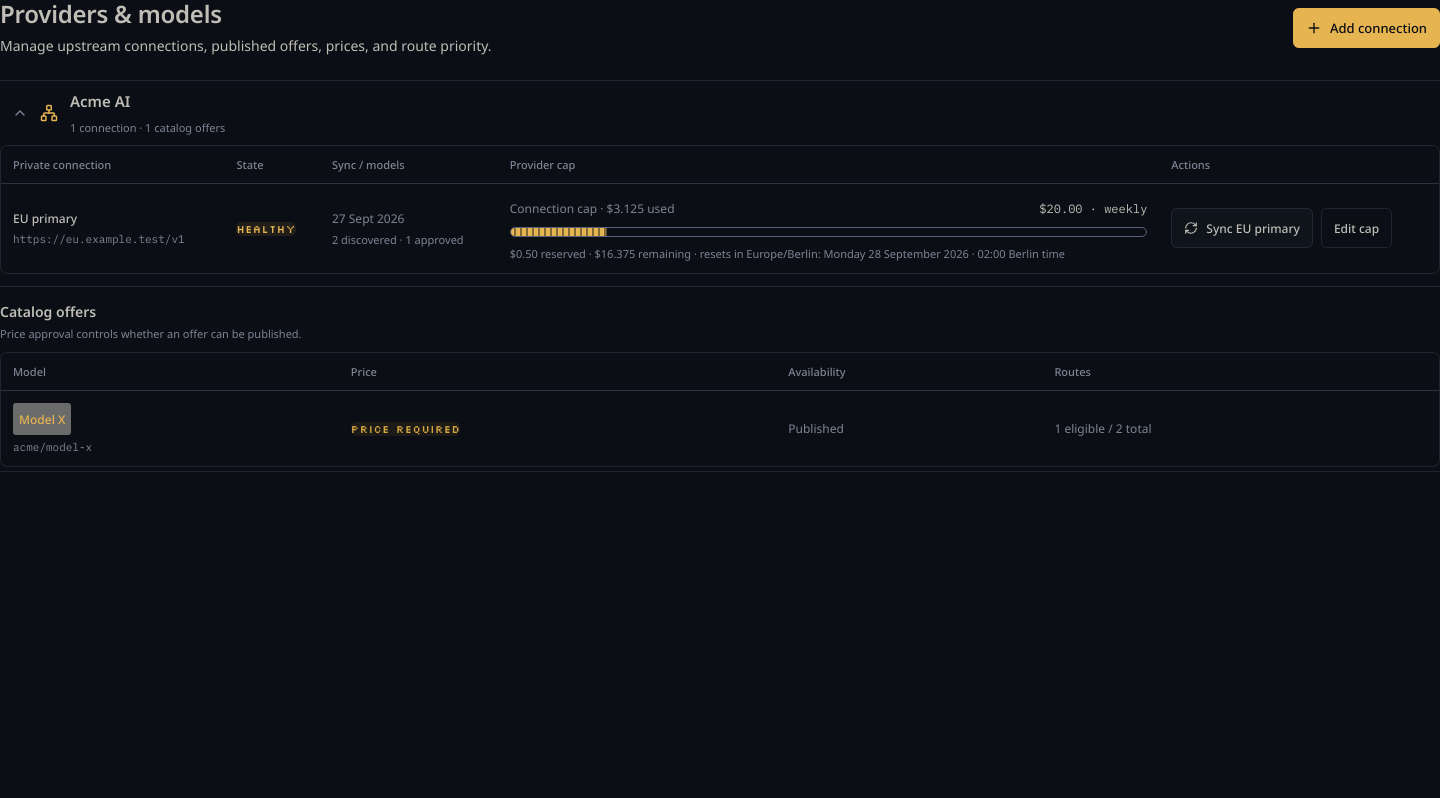
Scenario: Task 8 operator interface › keeps_unpriced_offer_off_user_catalog
This screenshot has width=1440, height=798.
Click the button "Model X".
click(42, 419)  # box [13,403,71,435]
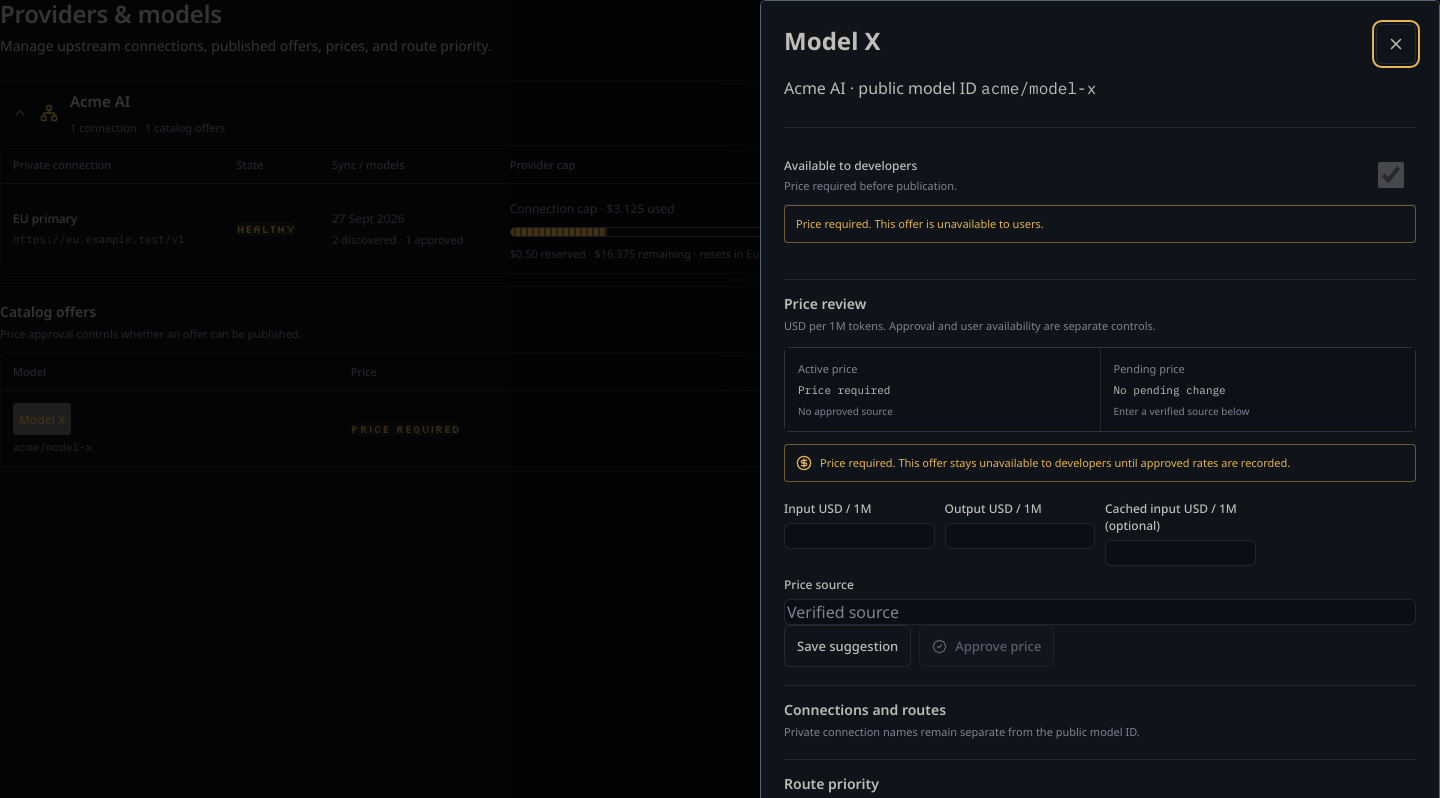
Expected: the text "Price required" in the row of "eligible /" is shown, [351,422,460,436]
Expected: the switch labelled "Available to developers Price required before publication." is disabled, [1369,162,1413,188]
